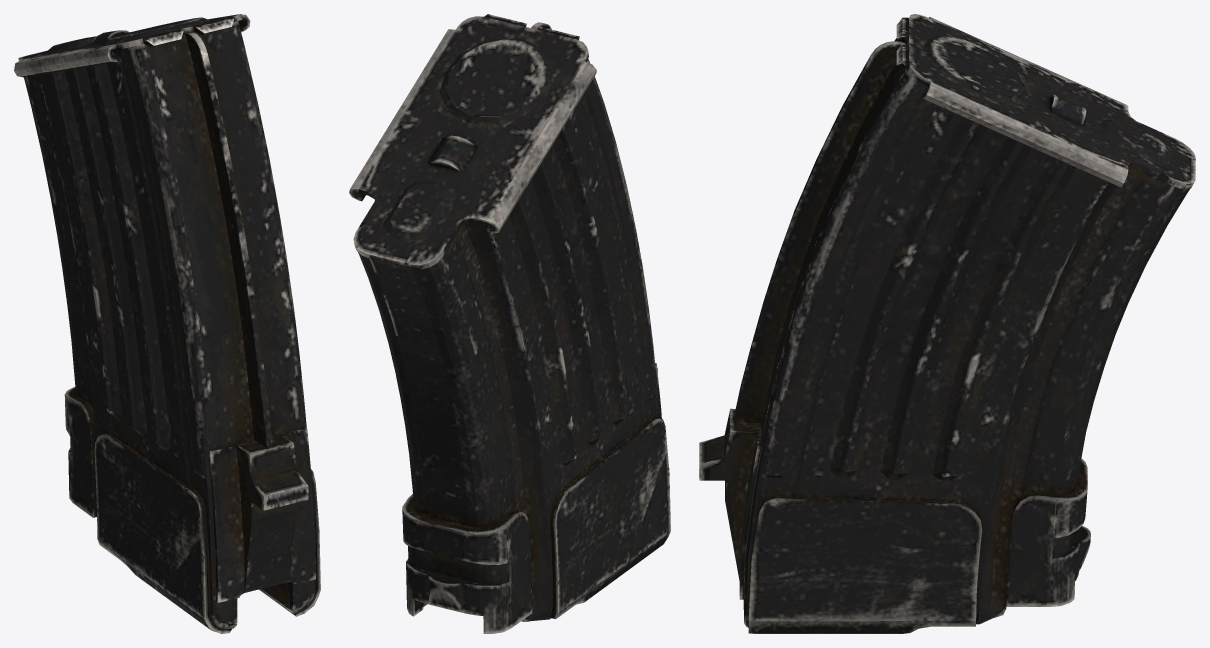
The picture shows the model from 3 angles, left to right: view 1: azimuth 30°, elevation 25°; view 2: azimuth 150°, elevation 25°; view 3: azimuth 270°, elevation 25°; orthographic projection. The views are drawn at different scales.
Parts seen in each view (by area): view 1: TW_59e5d83b86f7745aed03d262_PZ_Import; view 2: TW_59e5d83b86f7745aed03d262_PZ_Import; view 3: TW_59e5d83b86f7745aed03d262_PZ_Import.
Part boxes in pixels (x1=…): TW_59e5d83b86f7745aed03d262_PZ_Import: x1=14, y1=14, x2=320, y2=633; TW_59e5d83b86f7745aed03d262_PZ_Import: x1=349, y1=14, x2=670, y2=633; TW_59e5d83b86f7745aed03d262_PZ_Import: x1=699, y1=14, x2=1195, y2=633.
Bounding box in the file's own units: 0.0185 × 0.0528 × 0.0672.
Materials: 1 (1 with a texture image).
